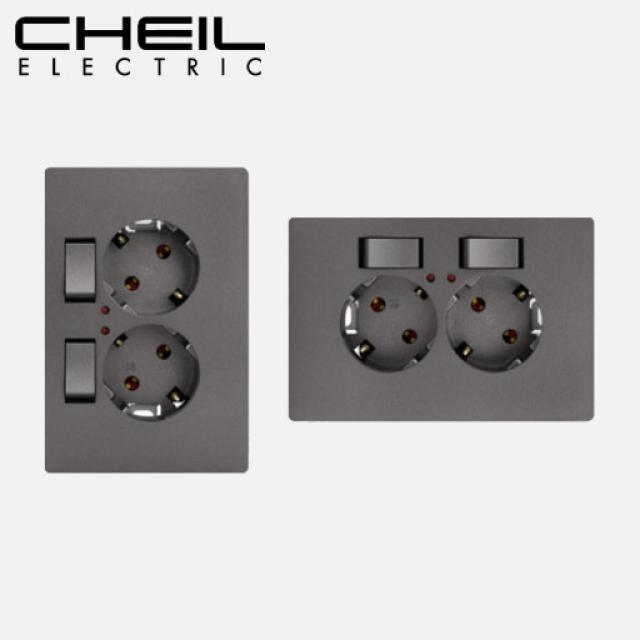typeb: (38, 152, 264, 530), (277, 197, 603, 454)
